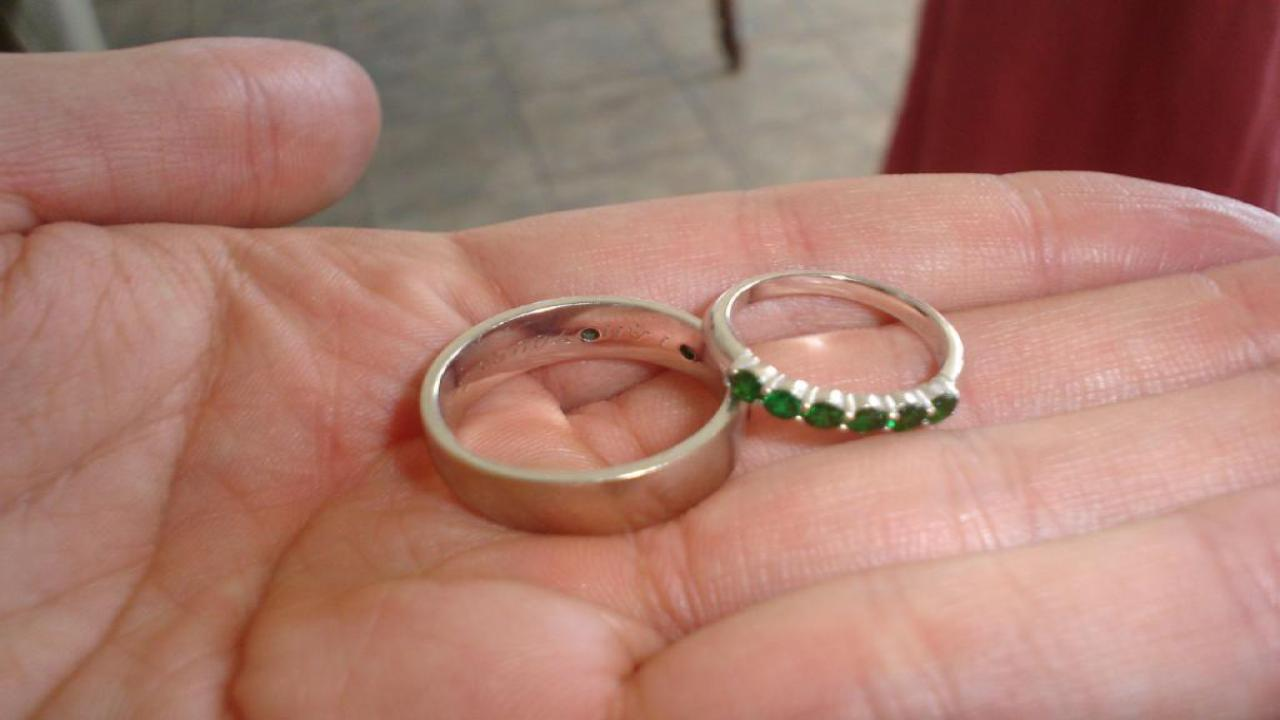ring: (408, 293, 752, 538), (708, 264, 968, 438)
